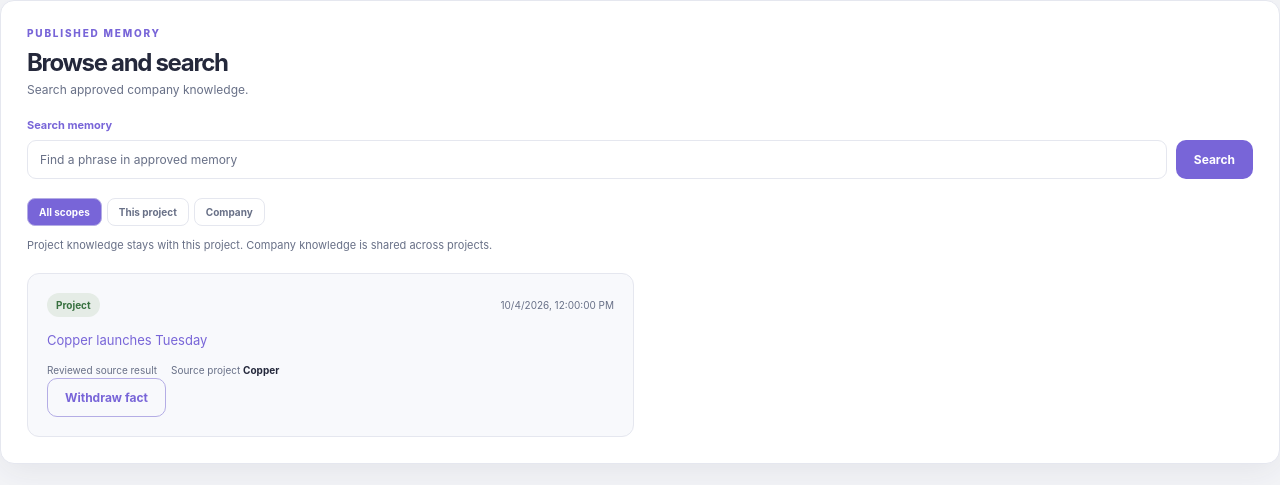
Scenario: shows a meaning match without presenting similarity as confidence or zero matches
Type "release schedule" into the field labelled "Search memory" at [597, 160], box [27, 140, 1167, 179]
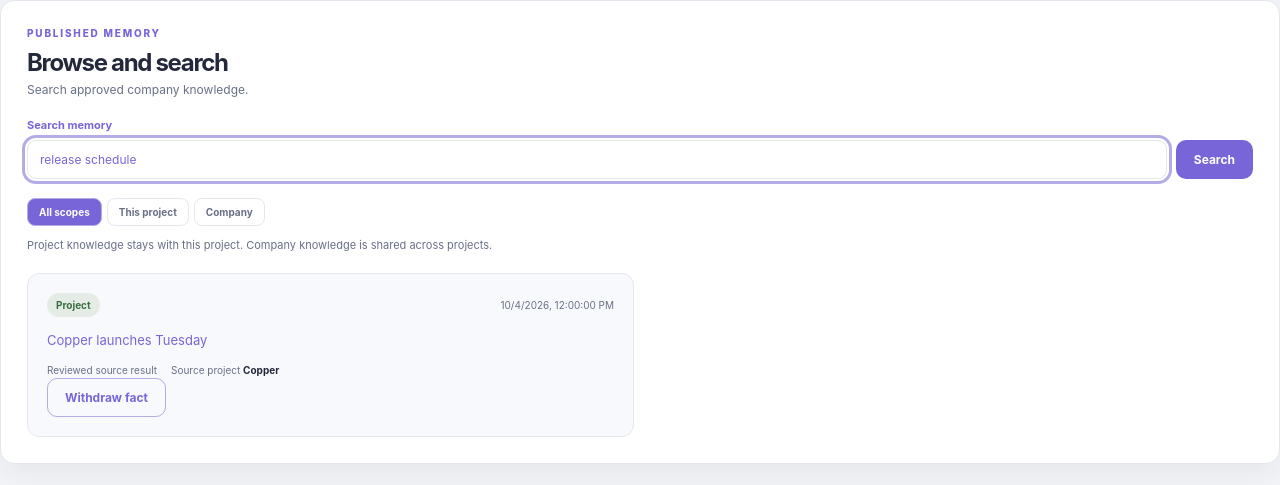
Click the button "Search" at [1214, 160], box [1176, 140, 1253, 179]
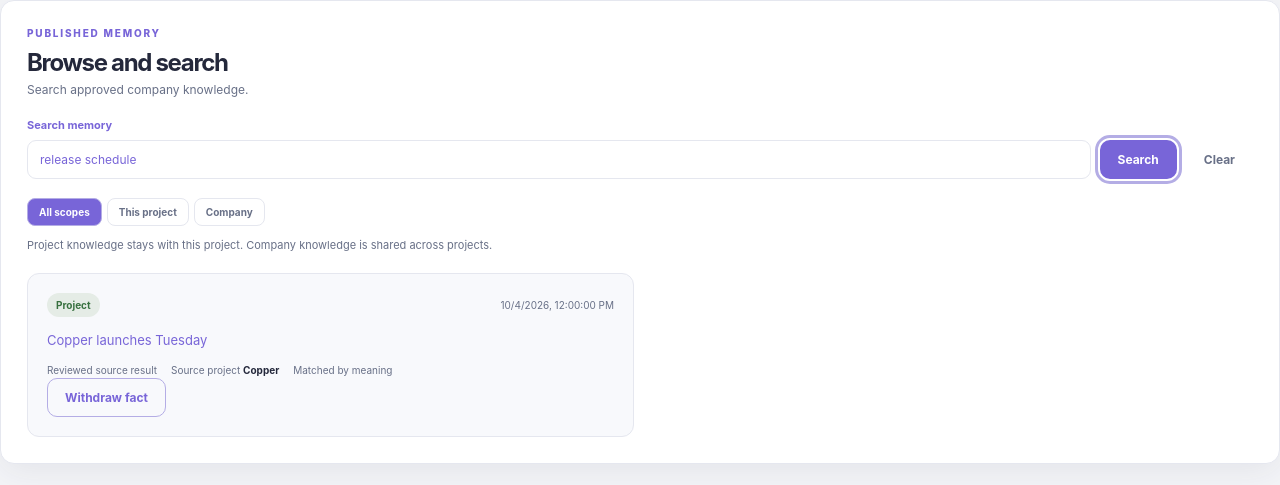
Expected: the text "Matched by meaning" is shown, [293, 363, 392, 378]
